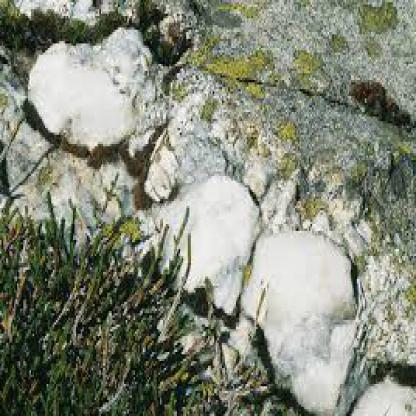Metamorphic_Quartize: (238, 235, 377, 414), (28, 11, 163, 167), (149, 164, 269, 324)
